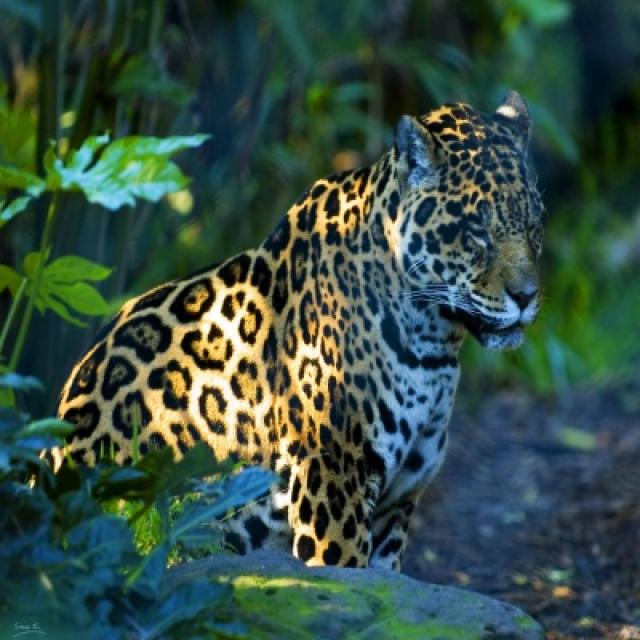Jaguar: (11, 92, 547, 588)
